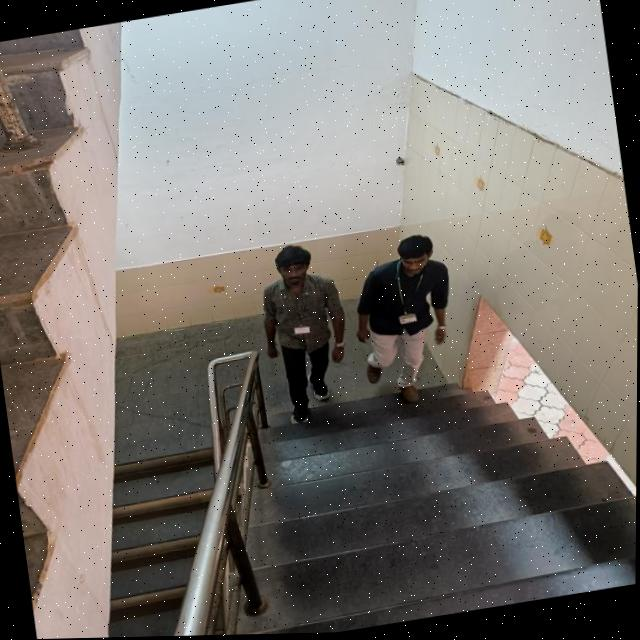id_card: (382, 265, 433, 332), (278, 282, 321, 343)
